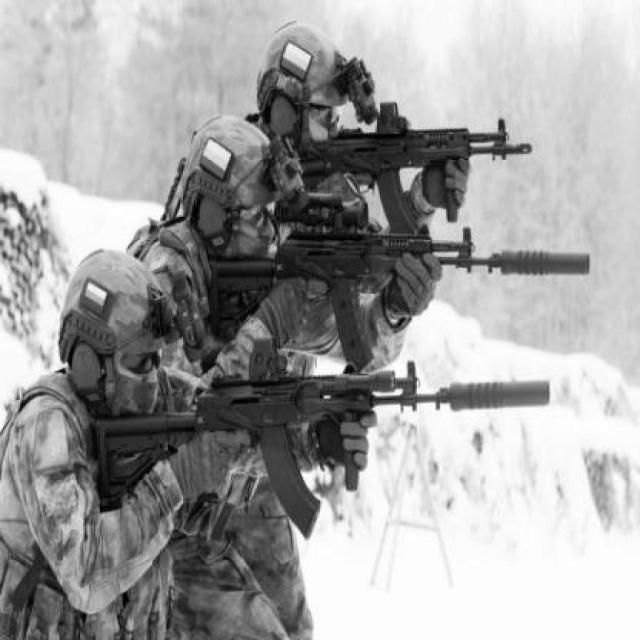weapon: (92, 338, 552, 546), (199, 191, 593, 372), (278, 101, 534, 225)
